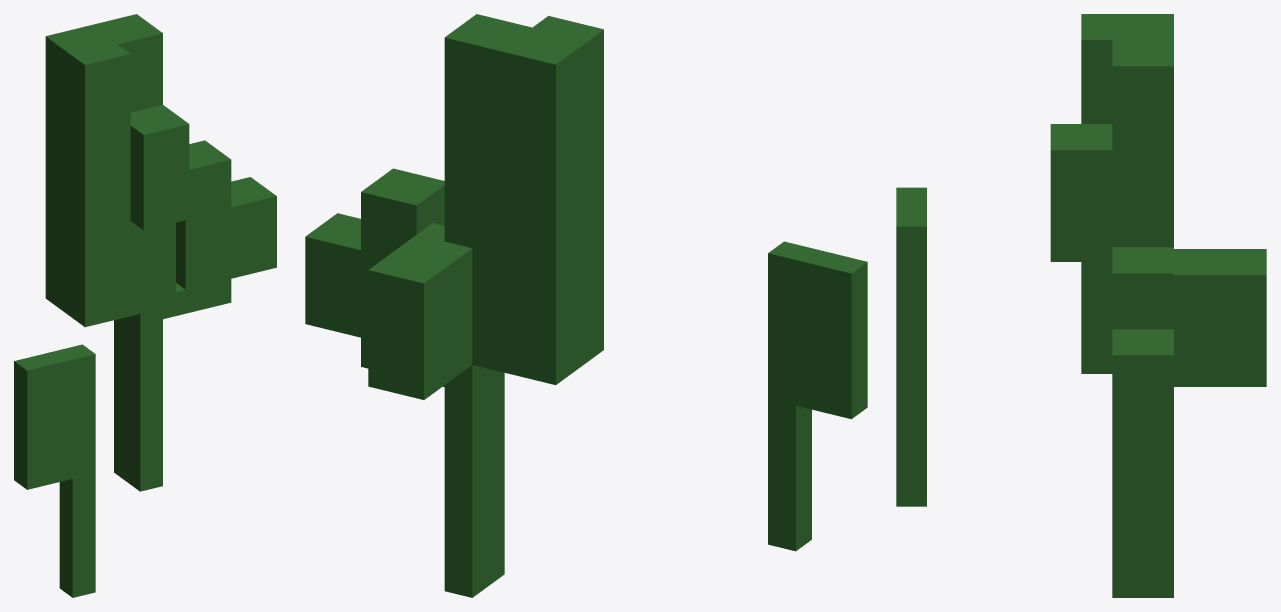
File: menta.obj
The picture shows the model from 3 angles, left to right: view 1: azimuth 30°, elevation 25°; view 2: azimuth 150°, elevation 25°; view 3: azimuth 270°, elevation 25°; orthographic projection. The views are drawn at different scales.
Size of the model in its own units: 1.5 by 1.9 by 1.2.
1 material, 1 textured.
